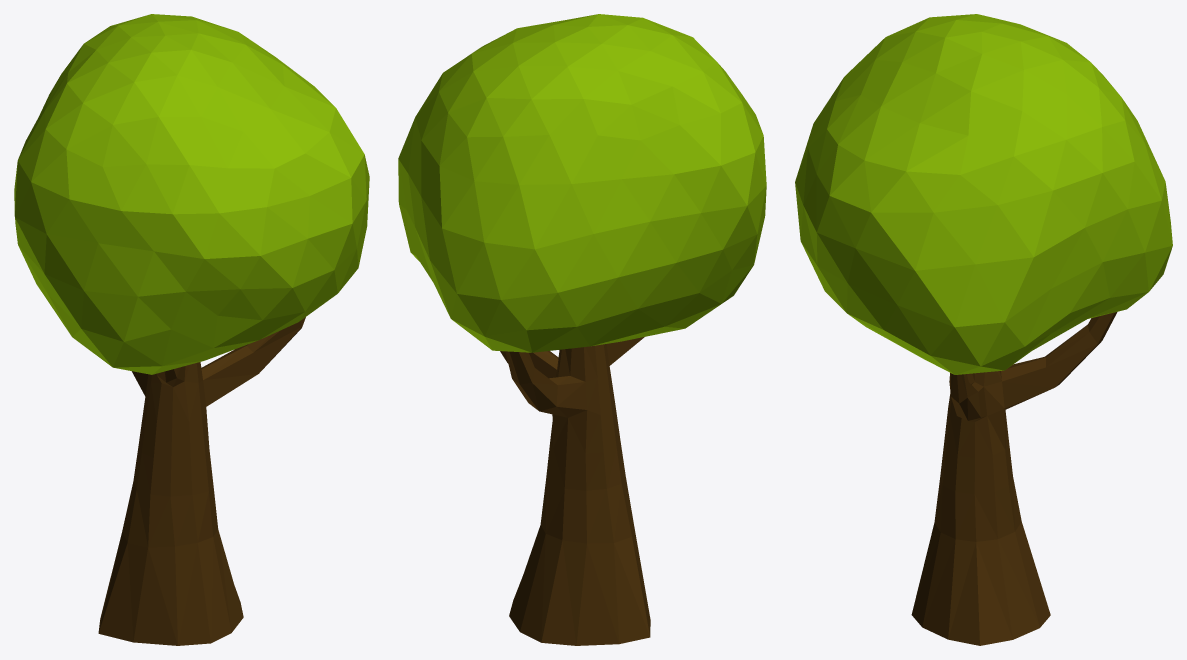
The model's file is TreeLeafsLOD0.fbx.
The picture shows the model from 3 angles, left to right: view 1: azimuth 30°, elevation 25°; view 2: azimuth 150°, elevation 25°; view 3: azimuth 270°, elevation 25°; orthographic projection. The views are drawn at different scales.
Visible parts, largest first — view 1: TreeLeafsLOD0; view 2: TreeLeafsLOD0; view 3: TreeLeafsLOD0.
Part boxes in pixels (x1,y1,x2,y2): TreeLeafsLOD0: (14,14,369,645); TreeLeafsLOD0: (398,14,766,645); TreeLeafsLOD0: (795,14,1172,645).
Size of the model in its own units: 423 by 702 by 416.
